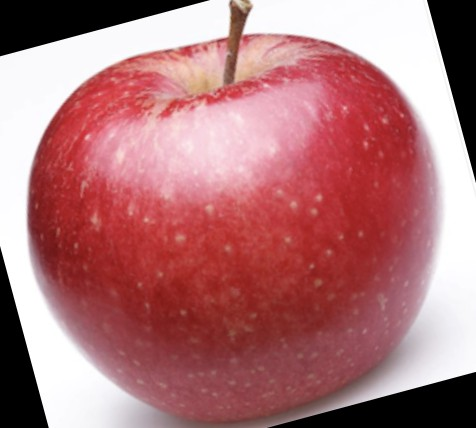fresh_apple: (30, 33, 445, 418)
